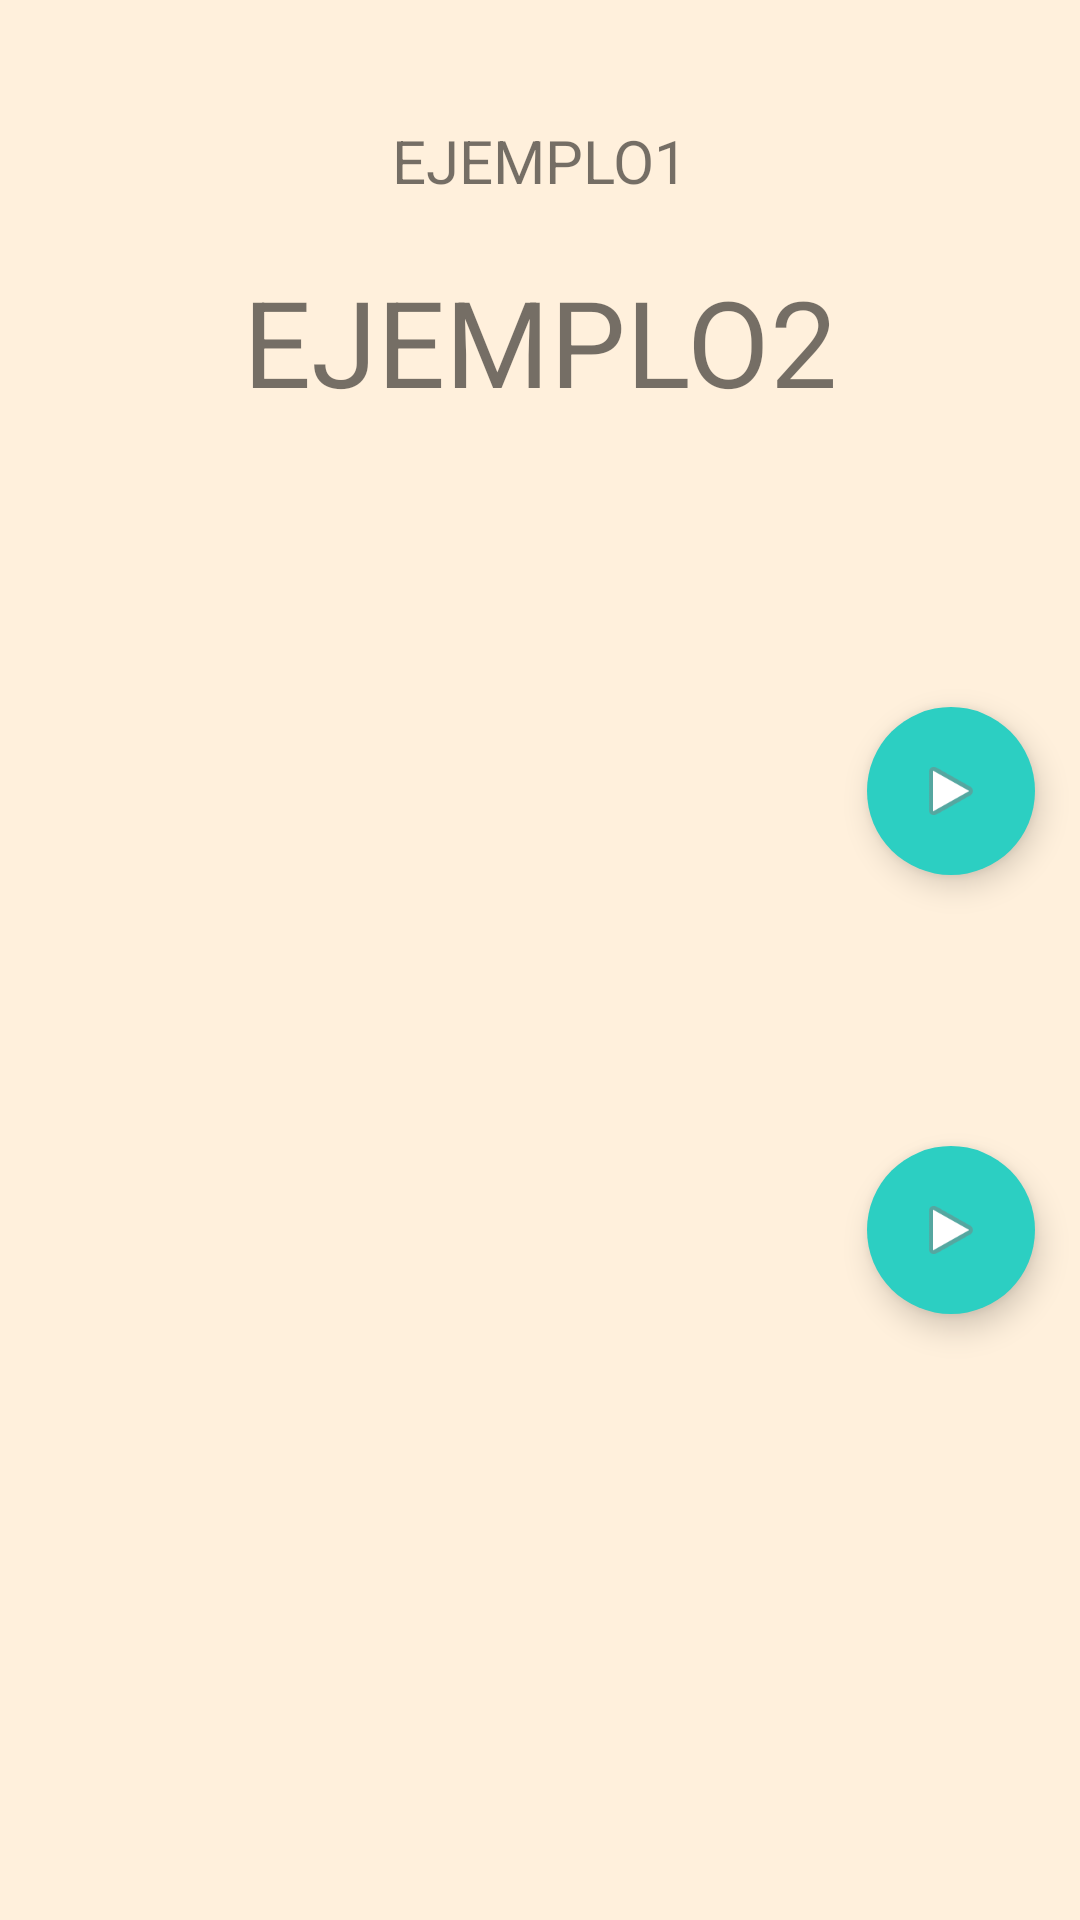

Icon bounding boxes for this 1080px x 1920px phone screenshot, format (x1, y1, x2, y2):
play: (867, 707, 1035, 875), (867, 1146, 1035, 1314)
